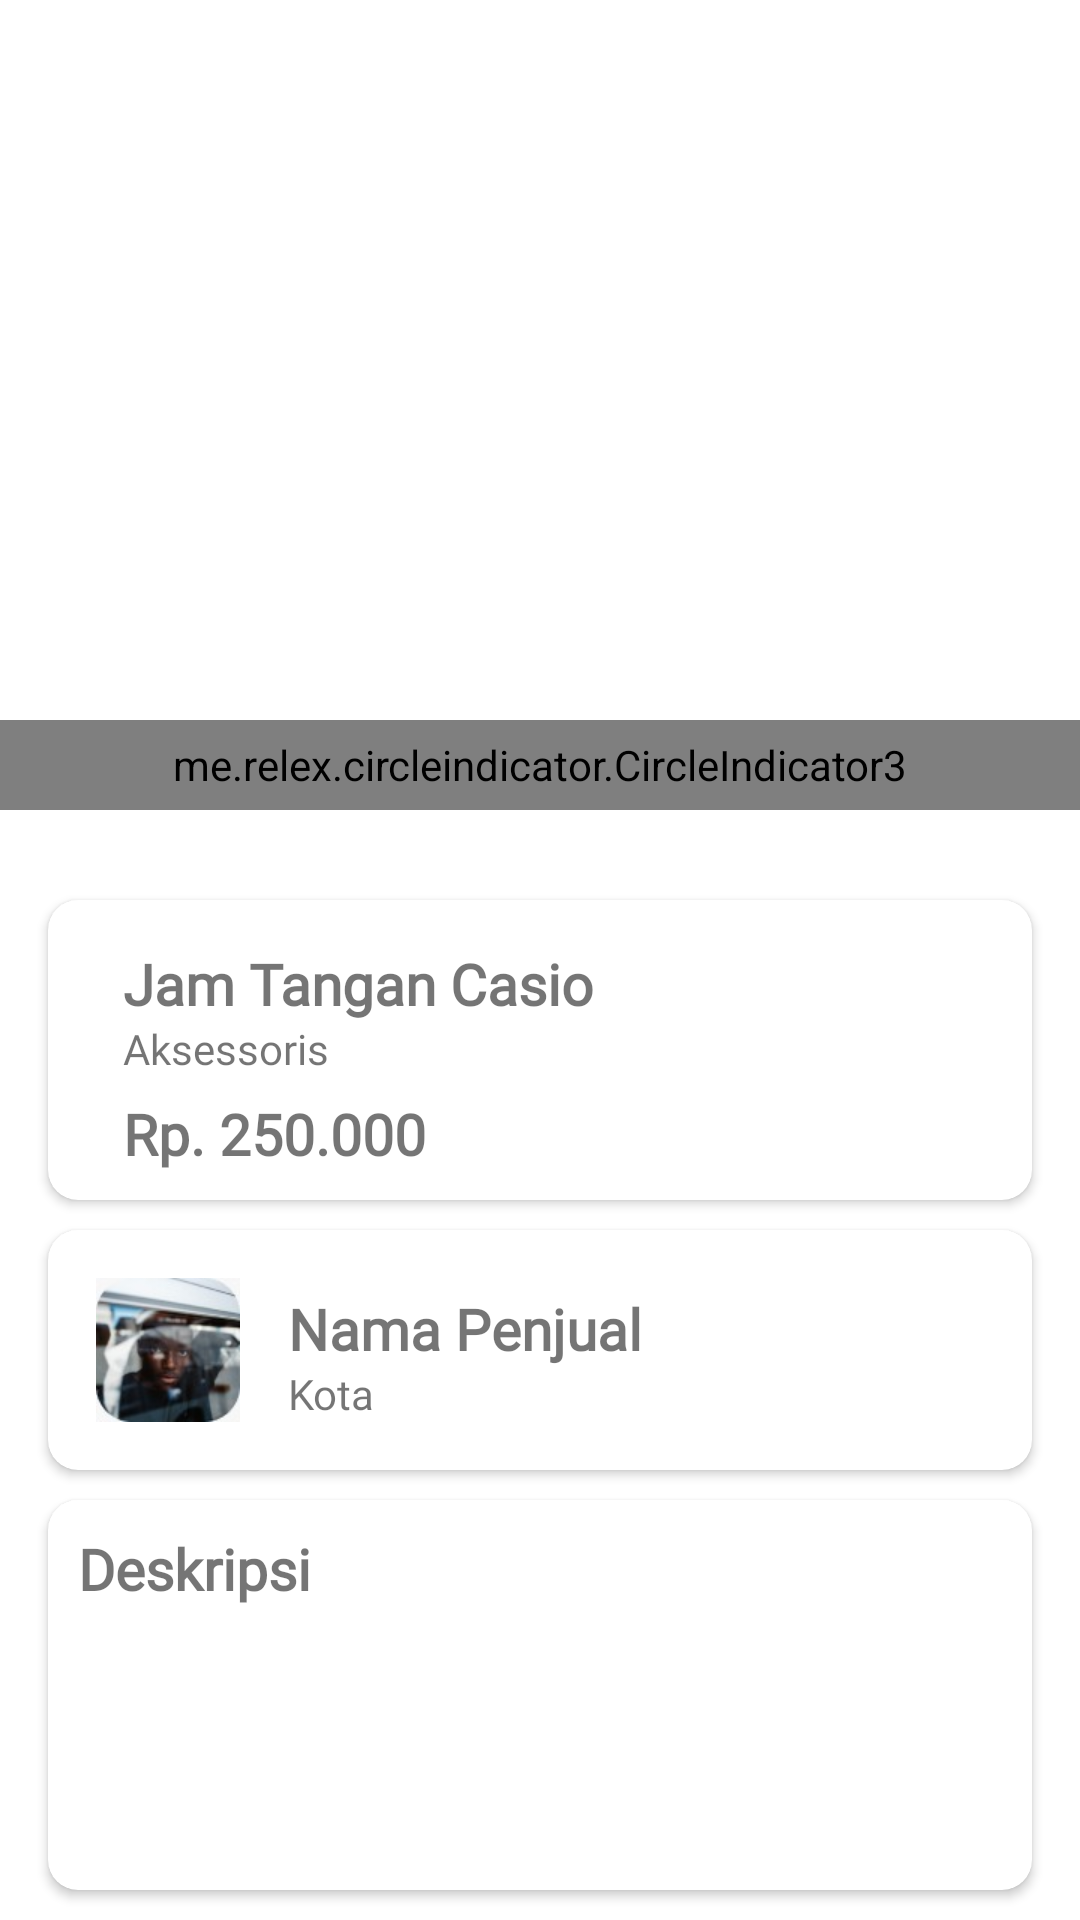

Icons on this 1080px x 1920px Android screen, each with the point to tap as (x,y):
profilepicture: (168,1350)
